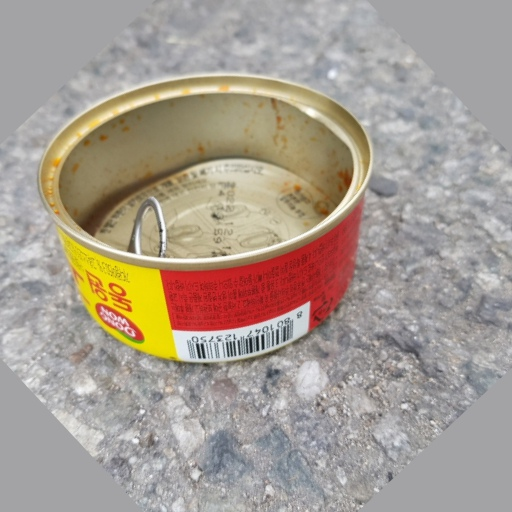Metal_1: (36, 72, 375, 362)
